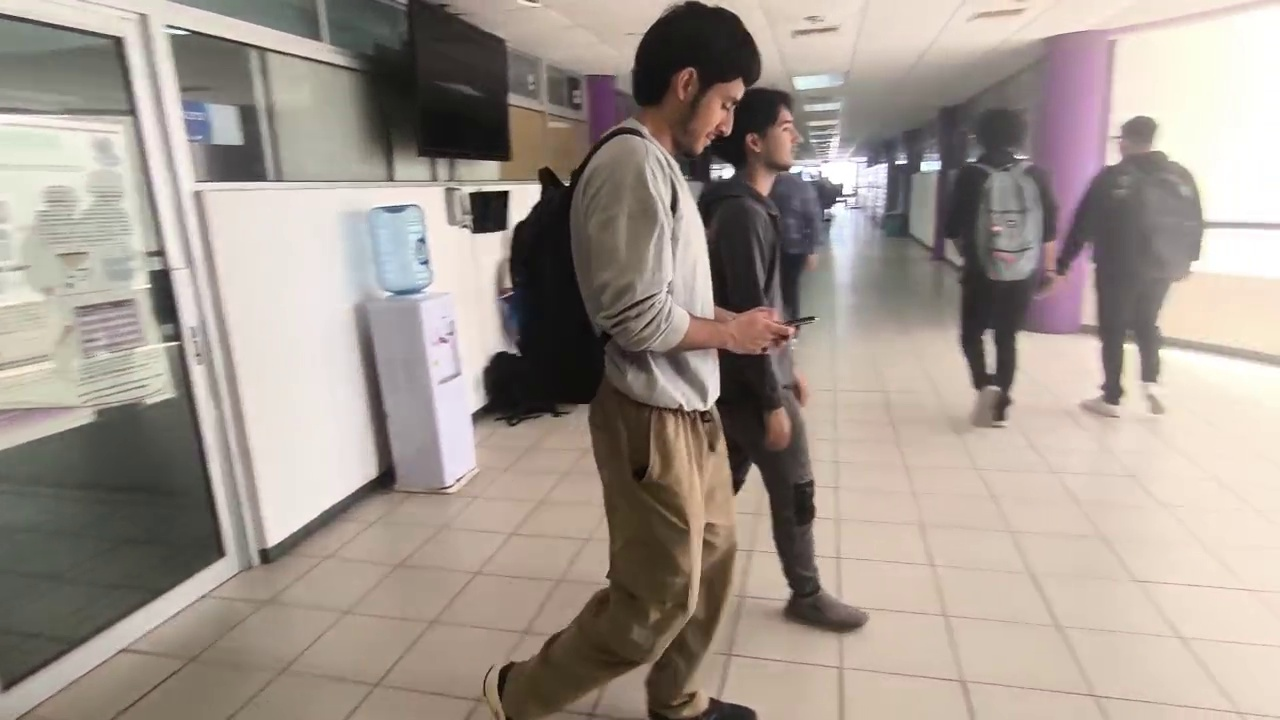mixto2: (780, 310, 824, 332)
